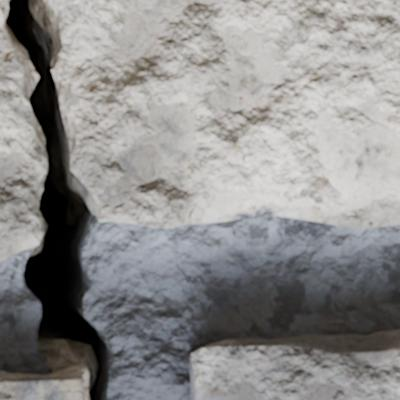brick: (189, 330, 399, 399), (0, 366, 88, 399)
broken_brick: (56, 0, 399, 229), (0, 29, 41, 262), (0, 0, 3, 25)
crack: (0, 0, 116, 399)
